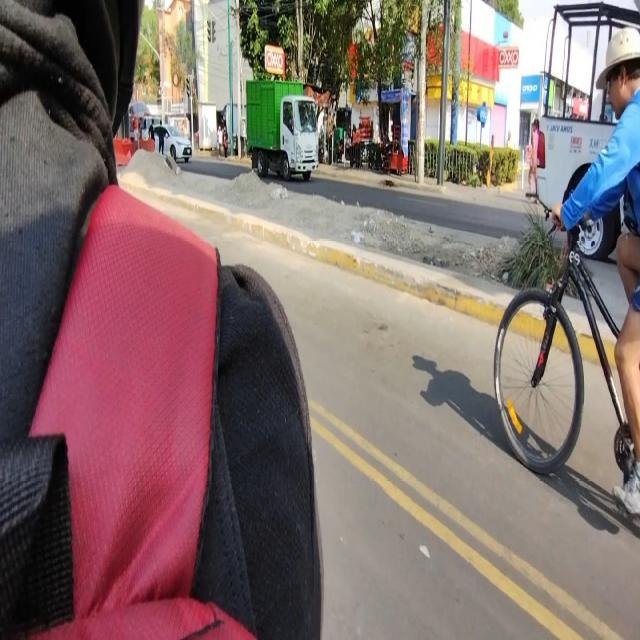adult: (552, 26, 640, 516), (526, 119, 540, 196)
